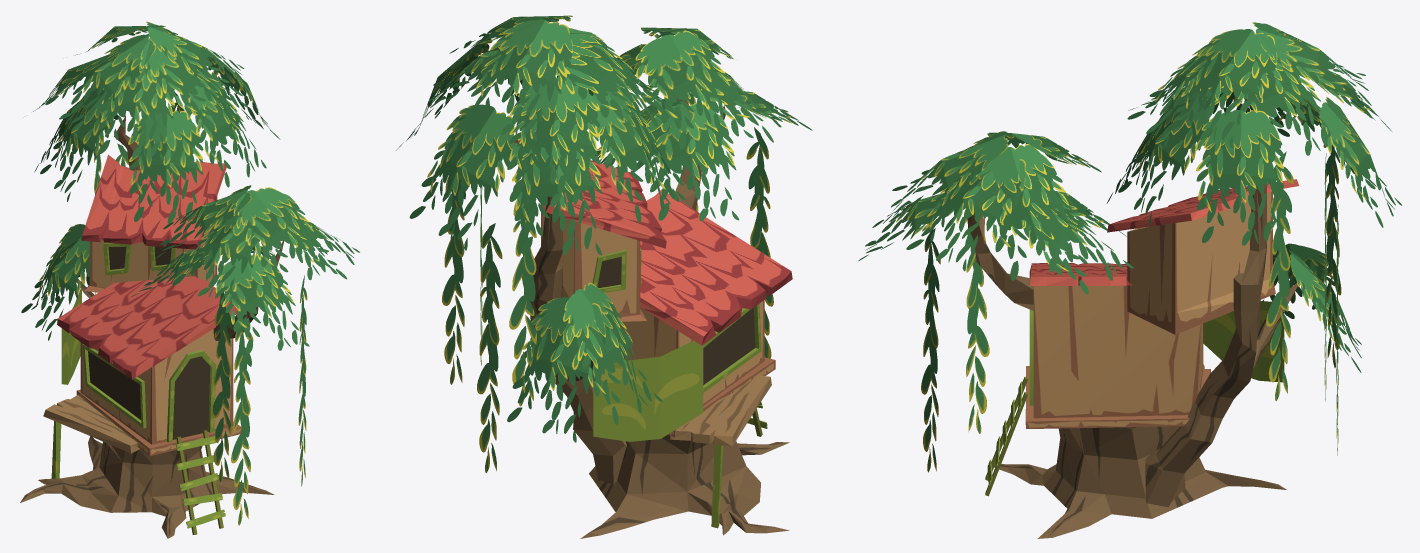
Rendered from SM_TreeHouse.FBX.
3 views of the same model, side by side, from view 1: azimuth 30°, elevation 25°; view 2: azimuth 150°, elevation 25°; view 3: azimuth 270°, elevation 25° (orthographic). The views are drawn at different scales.
Visible parts, largest first — view 1: Box029, Plane199; view 2: Plane199, Box029; view 3: Box029, Plane199.
Part boxes in pixels (x1,y1,x2,y2): Box029: (20,116,284,538); Plane199: (21,21,359,525); Plane199: (396,15,812,472); Box029: (514,98,792,538); Box029: (967,179,1299,538); Plane199: (858,22,1402,472).
Bounding box in the file's own units: 201 × 284 × 289.
